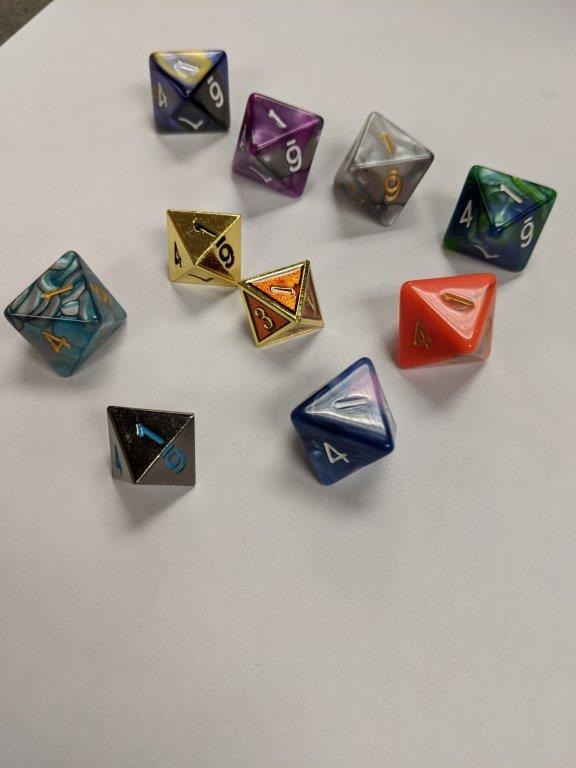d8-1: (6, 250, 129, 379), (289, 355, 401, 488), (438, 165, 557, 272), (333, 113, 436, 228), (229, 90, 324, 199), (402, 271, 497, 368), (106, 405, 199, 495), (237, 256, 324, 350), (149, 47, 231, 135), (166, 207, 245, 290)
